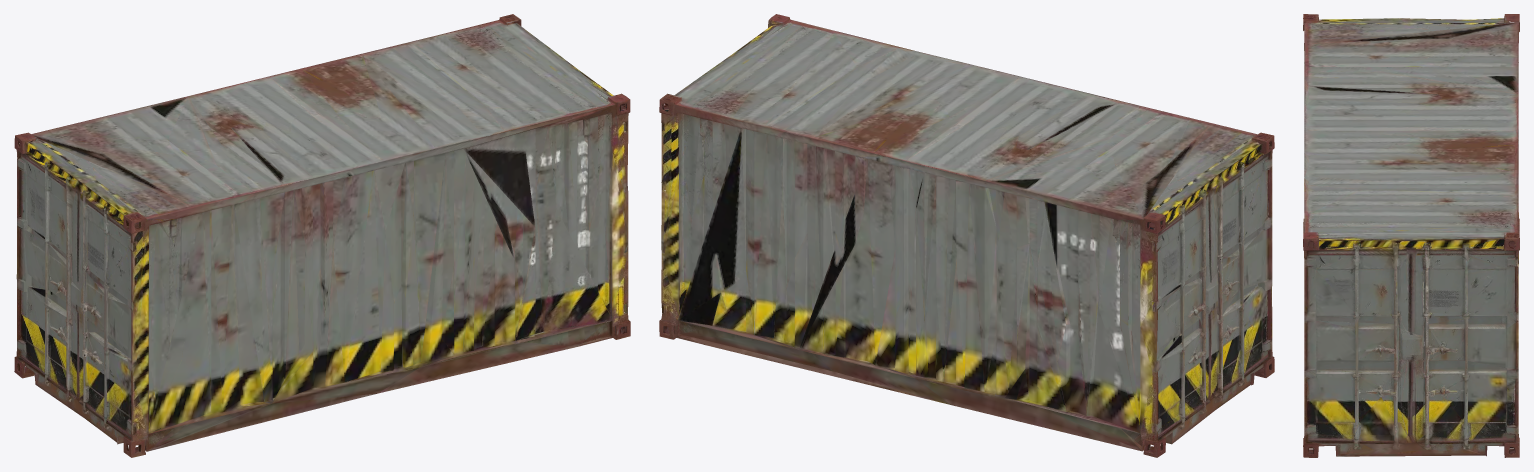
The model's file is container_grey.glb.
3 views of the same model, side by side, from view 1: azimuth 30°, elevation 25°; view 2: azimuth 150°, elevation 25°; view 3: azimuth 270°, elevation 25° (orthographic). The views are drawn at different scales.
Parts seen in each view (by area): view 1: Mesh_0; view 2: Mesh_0; view 3: Mesh_0.
Part boxes in pixels (bbox=[...]): Mesh_0: bbox=[14, 14, 630, 457]; Mesh_0: bbox=[659, 14, 1274, 457]; Mesh_0: bbox=[1303, 14, 1519, 457].
Size of the model in its own units: 1.9 by 0.8589 by 0.7679.
Materials: 1 (1 with a texture image).
